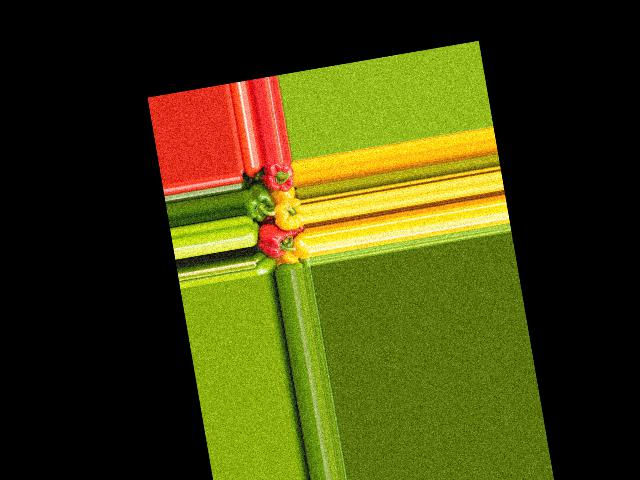bell_pepper: (259, 161, 297, 198)
